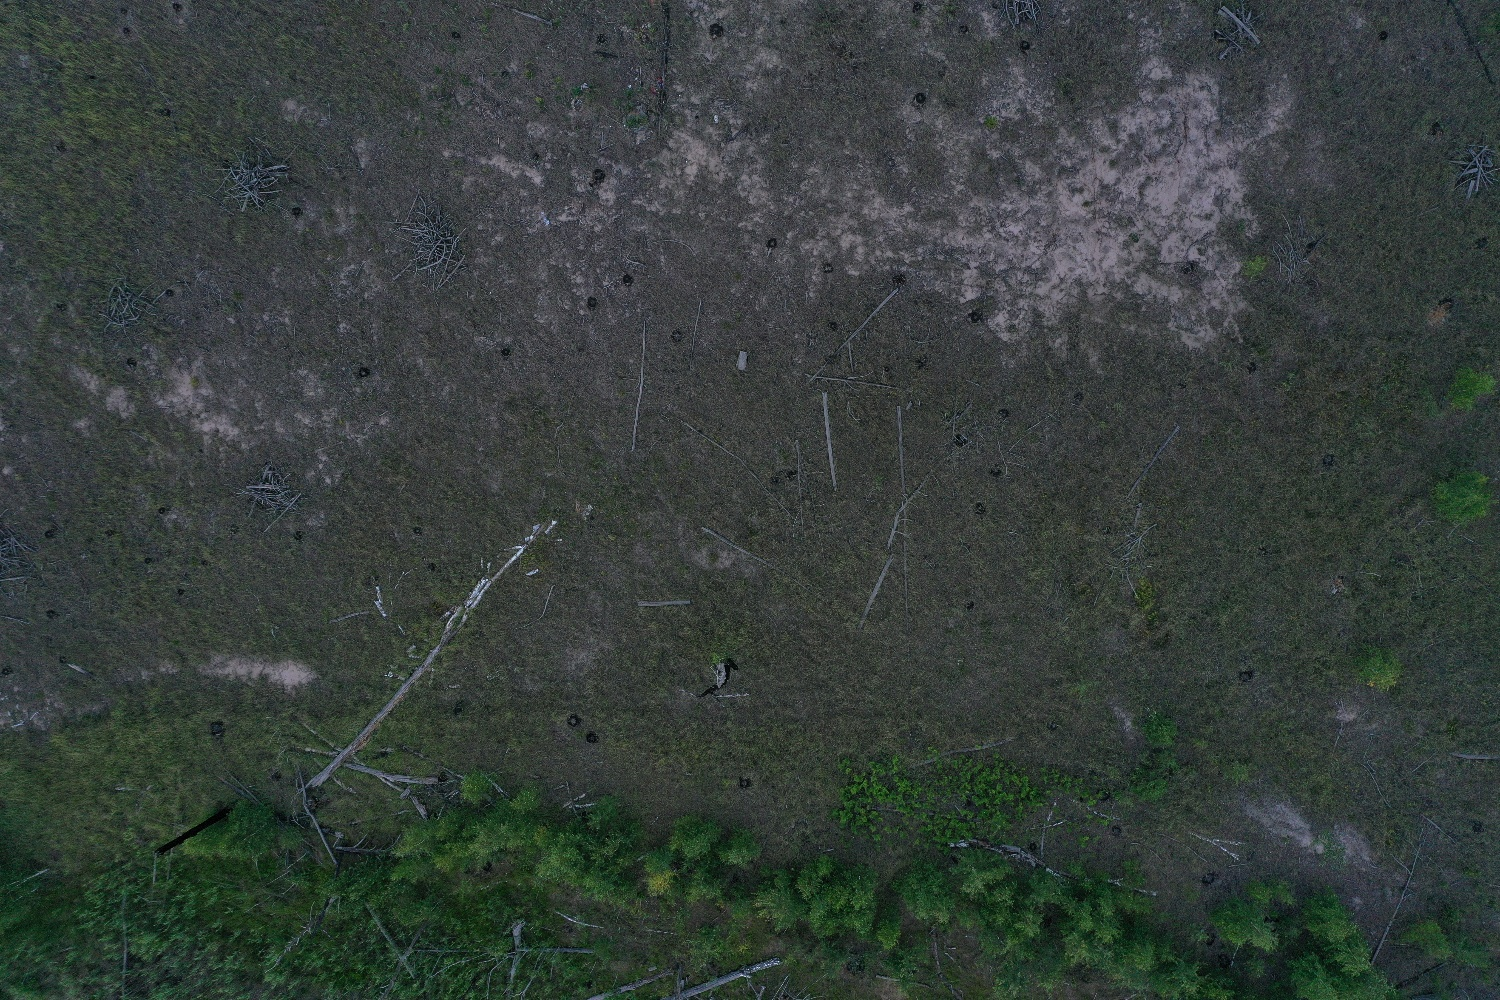branches: (390, 187, 480, 297), (211, 143, 289, 215), (229, 460, 306, 525), (1449, 134, 1500, 204), (97, 278, 163, 331), (1214, 1, 1267, 60), (1, 528, 38, 586), (1003, 1, 1047, 28)
